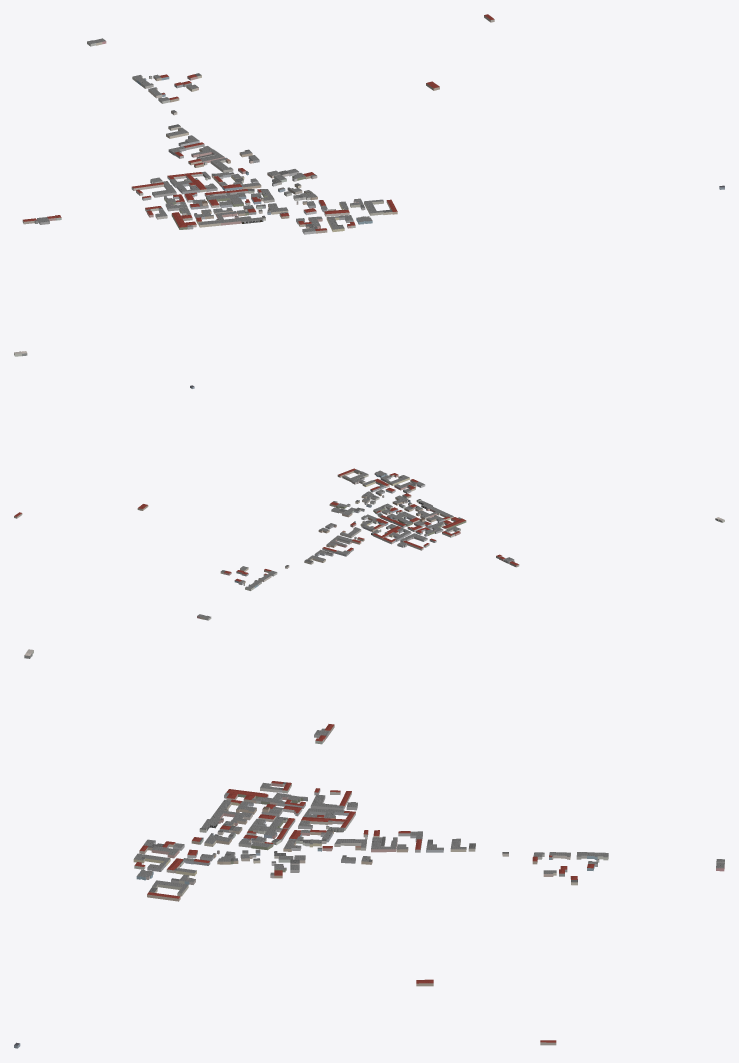
The model's file is buildings 1.fbx.
The picture shows the model from 3 angles, top to bottom: view 1: azimuth 30°, elevation 25°; view 2: azimuth 150°, elevation 25°; view 3: azimuth 270°, elevation 25°; orthographic projection. The views are drawn at different scales.
Visible parts, largest first — view 1: Mesh 46, Mesh 48; view 2: Mesh 46, Mesh 48; view 3: Mesh 46, Mesh 48, Mesh 49.
Boxes of the visible parts, box(x1,y1,x2,y2) form: Mesh 46: box(35, 38, 383, 232); Mesh 48: box(23, 14, 494, 230); Mesh 46: box(197, 470, 514, 618); Mesh 48: box(14, 468, 518, 581); Mesh 46: box(134, 728, 724, 893); Mesh 48: box(134, 724, 594, 1042); Mesh 49: box(141, 782, 599, 892).
Size of the model in its own units: 885 by 670 by 10.64.
49 materials, 6 textured.
